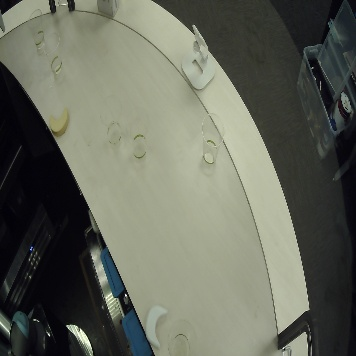empty_cup: (200, 110, 225, 169), (99, 93, 124, 144), (127, 107, 150, 160), (166, 317, 197, 356), (43, 32, 65, 84), (25, 9, 48, 55)
puck: (145, 304, 168, 349), (48, 108, 70, 137)
